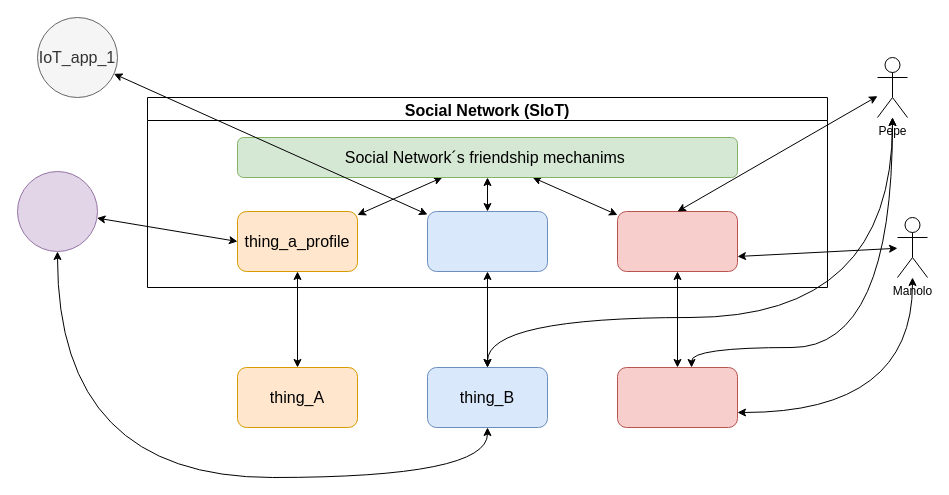
Some shapes in this 949 by 495 pixel diagram are drawn without their labels. Each missing label, with the centre of its shape:
"IoT_app_2" belongs at (x=57, y=211).
"thing_b_profile" belongs at (x=487, y=241).
"thing_C" belongs at (x=677, y=397).
"thing_c_profile" belongs at (x=677, y=241).
